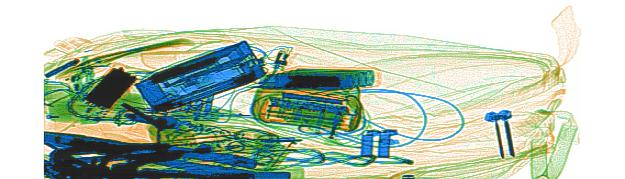battery: (245, 64, 381, 92)
